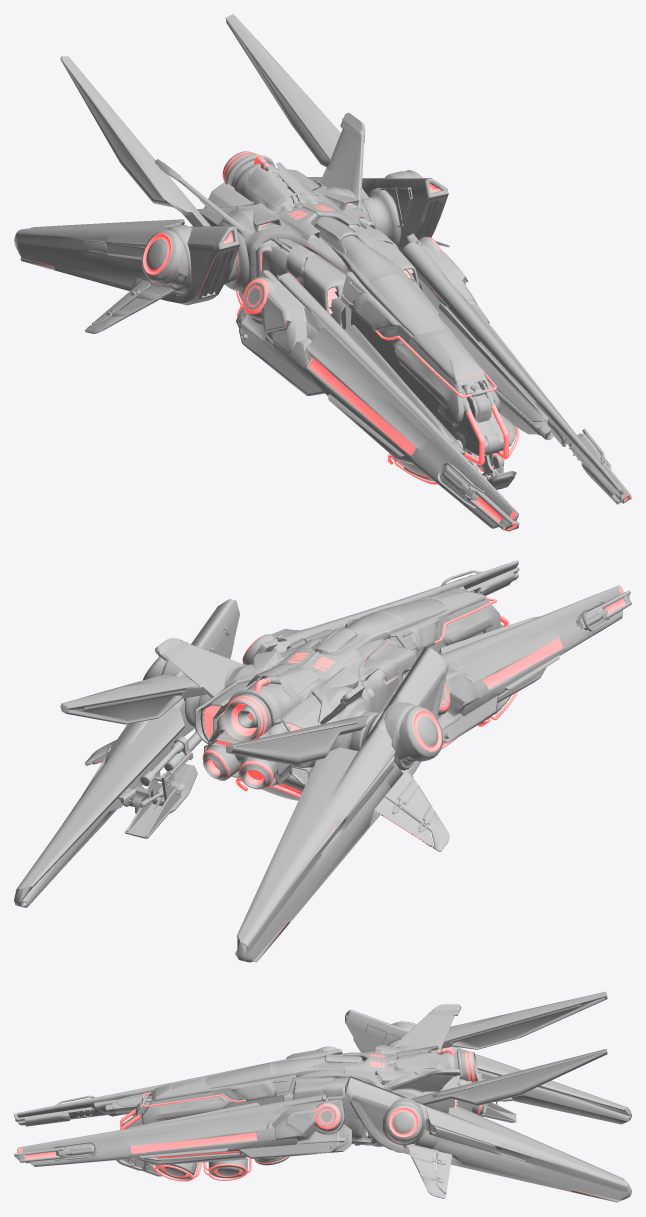
The model's file is StingrayPBS1.gltf.
3 renders of one model, top to bottom at view 1: azimuth 30°, elevation 25°; view 2: azimuth 150°, elevation 25°; view 3: azimuth 270°, elevation 25°, orthographic. The views are drawn at different scales.
Parts seen in each view (by area): view 1: StingrayPBS1; view 2: StingrayPBS1; view 3: StingrayPBS1.
Part boxes in pixels (x1,y1,x2,y2): StingrayPBS1: (14,14,631,531); StingrayPBS1: (14,560,631,962); StingrayPBS1: (14,991,631,1202).
Size of the model in its own units: 3.58 by 2.11 by 7.68.
